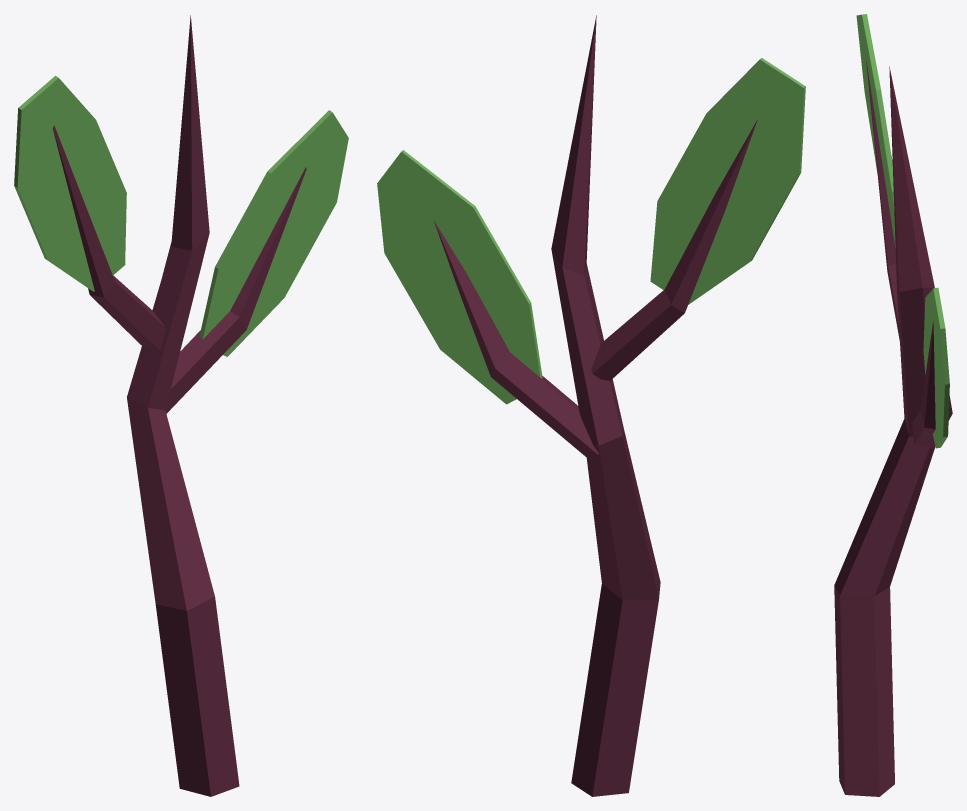
File: Beet_1-optimized.glb
3 renders of one model, left to right at view 1: azimuth 30°, elevation 25°; view 2: azimuth 150°, elevation 25°; view 3: azimuth 270°, elevation 25°, orthographic. The views are drawn at different scales.
Parts seen in each view (by area): view 1: Beet_1; view 2: Beet_1; view 3: Beet_1.
Boxes of the visible parts, x1,y1,x2,y2 form: Beet_1: [14, 15, 348, 796]; Beet_1: [377, 15, 805, 796]; Beet_1: [834, 14, 952, 796].
Bounding box in the file's own units: 0.3339 × 0.6527 × 0.0976.
